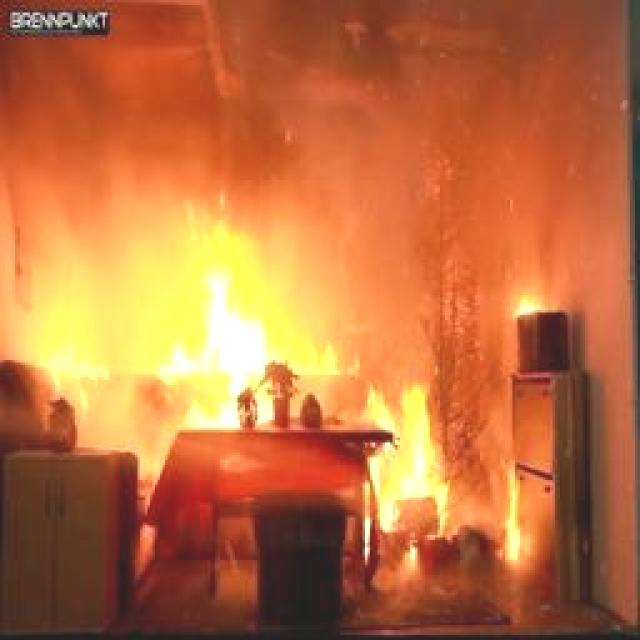fire: (20, 148, 442, 476)
